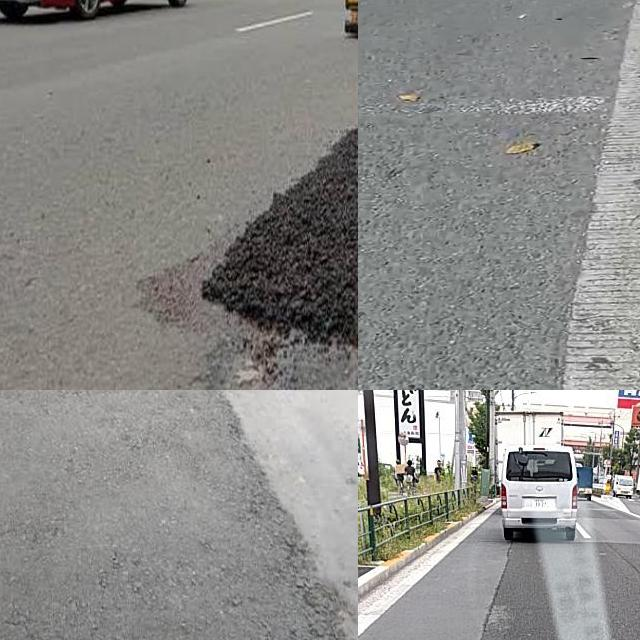Sambungan: (0, 390, 338, 640), (202, 127, 358, 322)
